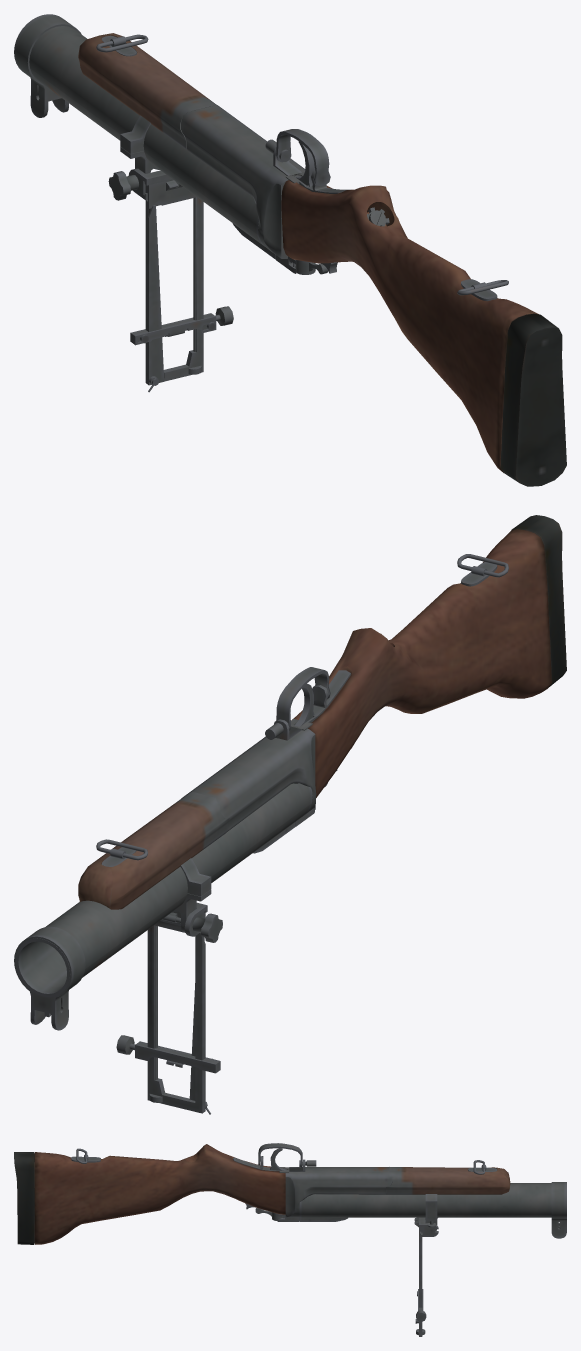
Rendered from grenade_launcher.glb.
The picture shows the model from 3 angles, top to bottom: view 1: azimuth 30°, elevation 25°; view 2: azimuth 150°, elevation 25°; view 3: azimuth 270°, elevation 25°; orthographic projection. The views are drawn at different scales.
Parts seen in each view (by area): view 1: lock_left_square_baked_0; view 2: lock_left_square_baked_0; view 3: lock_left_square_baked_0.
Part boxes in pixels (x1,y1,x2,y2): lock_left_square_baked_0: [14, 14, 566, 486]; lock_left_square_baked_0: [14, 515, 566, 1114]; lock_left_square_baked_0: [14, 1143, 566, 1336].
Bounding box in the file's own units: 0.1258 × 0.3945 × 1.05.
2 materials, 2 textured.
